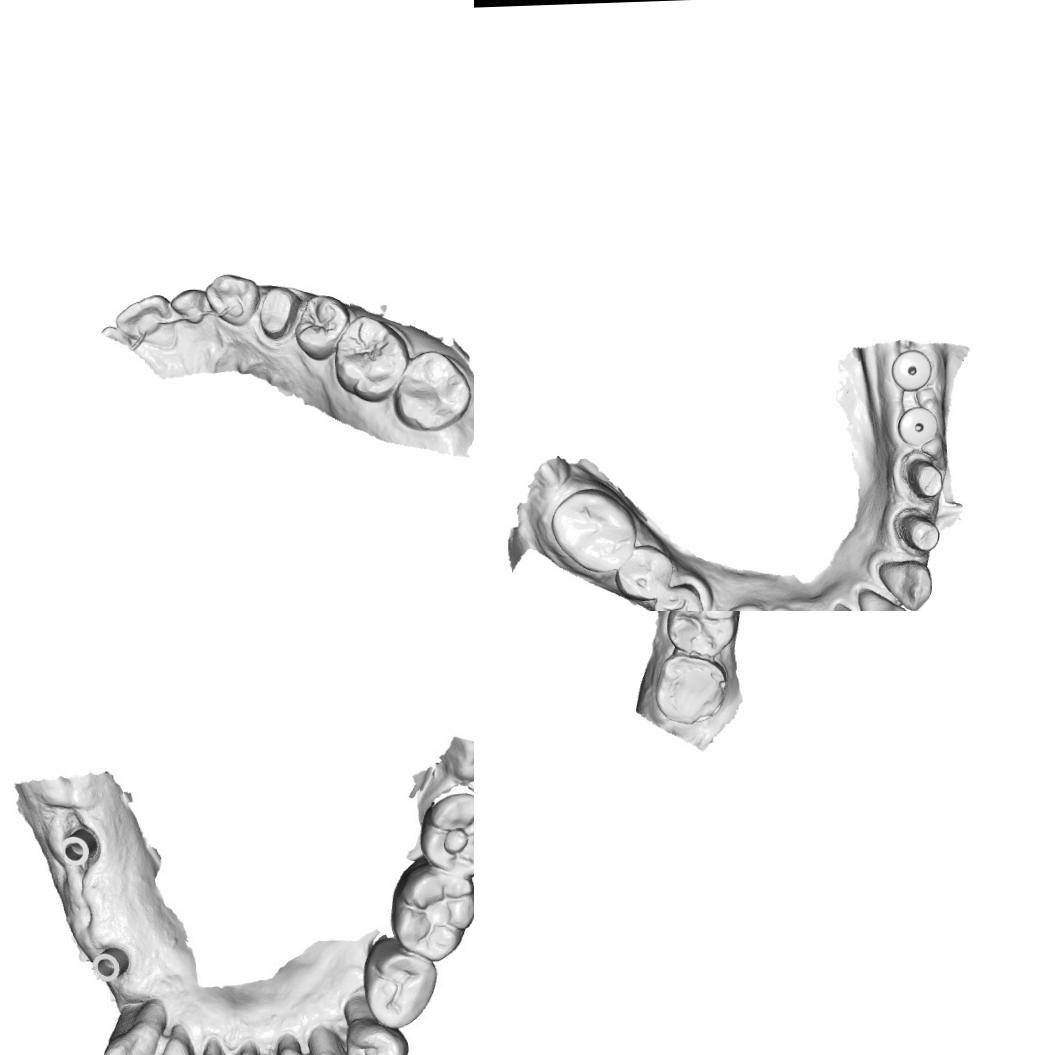canine: (202, 270, 262, 330), (875, 552, 934, 611), (104, 1001, 163, 1055), (306, 1027, 370, 1055)
crown: (252, 283, 304, 346), (890, 505, 944, 556), (895, 448, 946, 501)
implant: (893, 403, 942, 450), (90, 936, 134, 986), (889, 348, 935, 395), (57, 824, 100, 872)
incisor: (111, 293, 175, 344), (167, 284, 211, 326), (142, 1025, 195, 1055), (855, 586, 909, 611), (267, 1035, 325, 1055), (182, 1038, 236, 1055)
molar: (548, 486, 638, 582), (391, 861, 474, 960), (331, 313, 412, 404), (390, 348, 474, 434), (652, 652, 731, 727), (422, 791, 474, 874), (663, 611, 744, 660)
premolar: (362, 936, 442, 1032), (291, 292, 352, 362), (613, 542, 677, 602), (342, 1013, 407, 1055), (652, 579, 709, 611)
